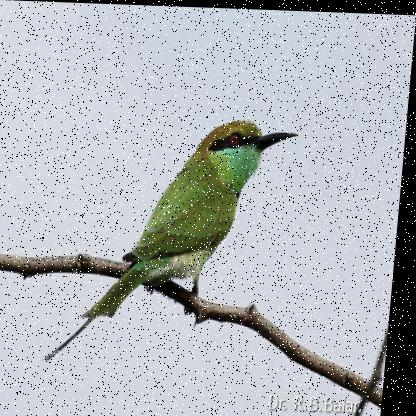Burung: (49, 112, 300, 367)
